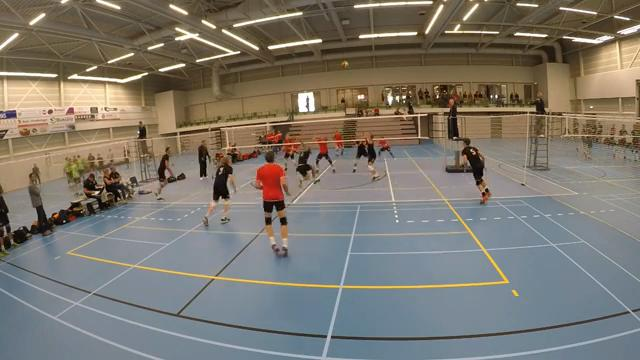Player: (256, 151, 289, 255), (203, 157, 236, 225), (461, 138, 491, 204), (296, 142, 318, 187), (155, 147, 172, 200), (314, 136, 335, 172), (353, 139, 367, 172), (283, 135, 294, 171), (378, 137, 394, 158), (333, 130, 343, 155)
Set: (358, 129, 380, 182)
ball: (341, 60, 348, 68)
